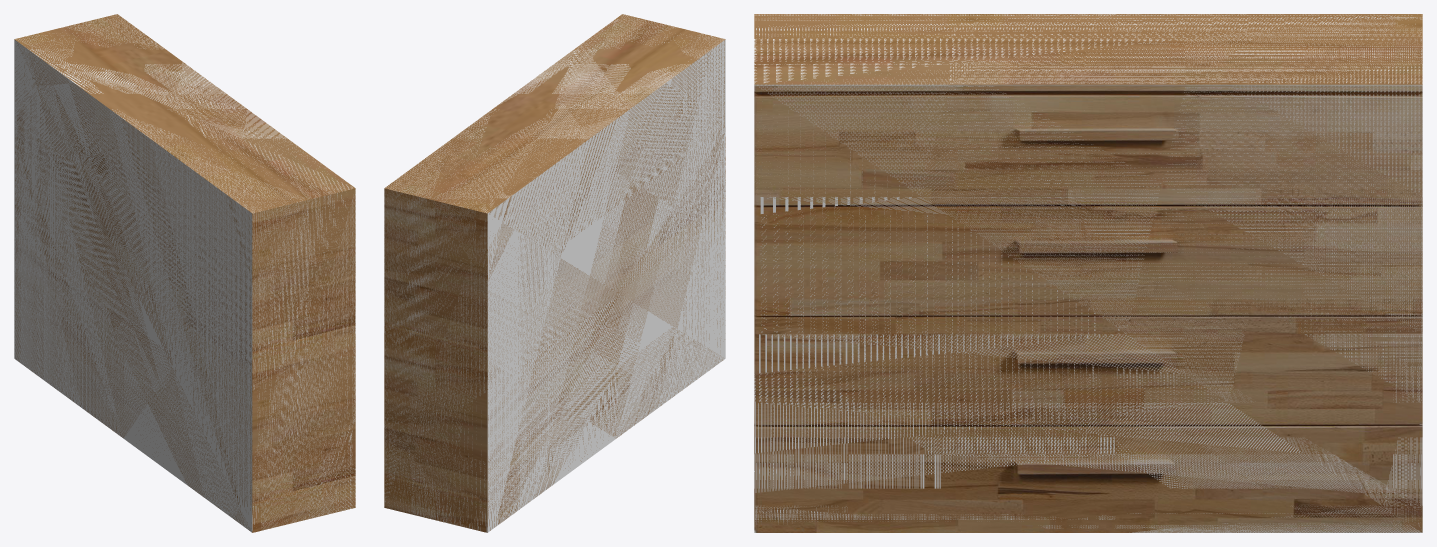
The model's file is dresser_covaro.dae.
3 renders of one model, left to right at view 1: azimuth 30°, elevation 25°; view 2: azimuth 150°, elevation 25°; view 3: azimuth 270°, elevation 25°, orthographic. The views are drawn at different scales.
Visible parts, largest first — view 1: SketchUp; view 2: SketchUp; view 3: SketchUp (×2).
Part boxes in pixels (x1,y1,x2,y2): SketchUp: (14, 14, 355, 532); SketchUp: (384, 14, 725, 532); SketchUp (×2): (754, 14, 1422, 532).
Size of the model in its own units: 0.2503 by 0.9995 by 0.7396.
4 materials, 3 textured.
